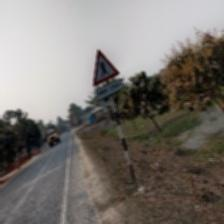Market-in-front: (92, 49, 124, 108)
